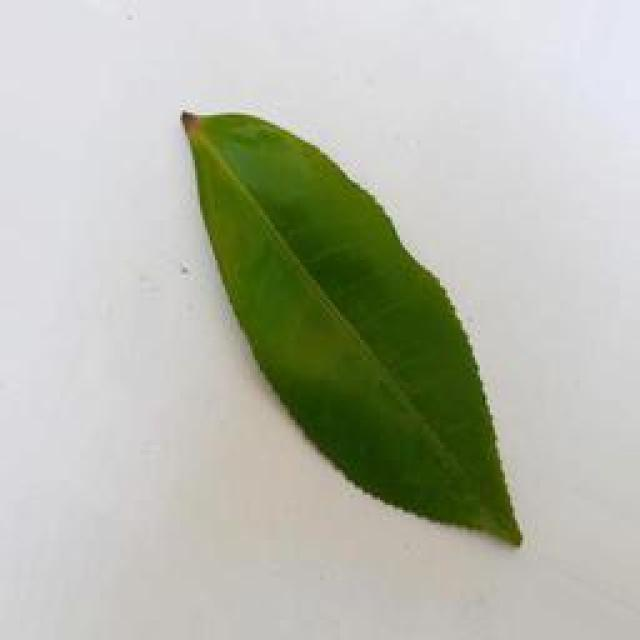Healthy: (178, 102, 518, 544)
